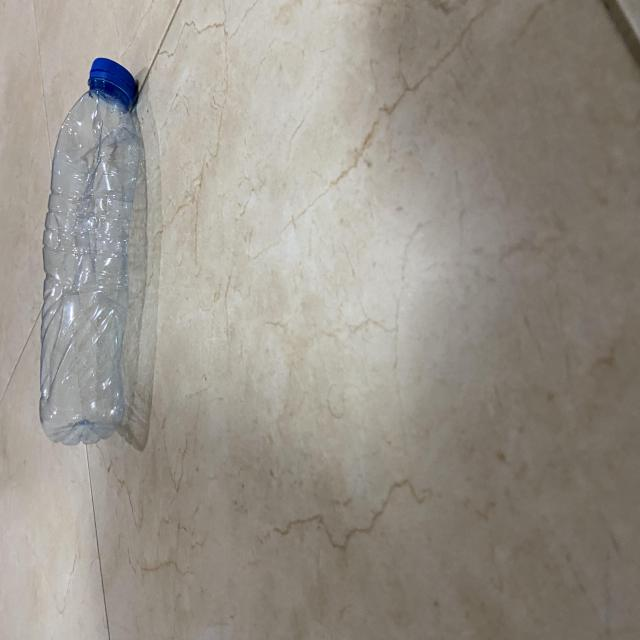bottle: (33, 52, 146, 453)
